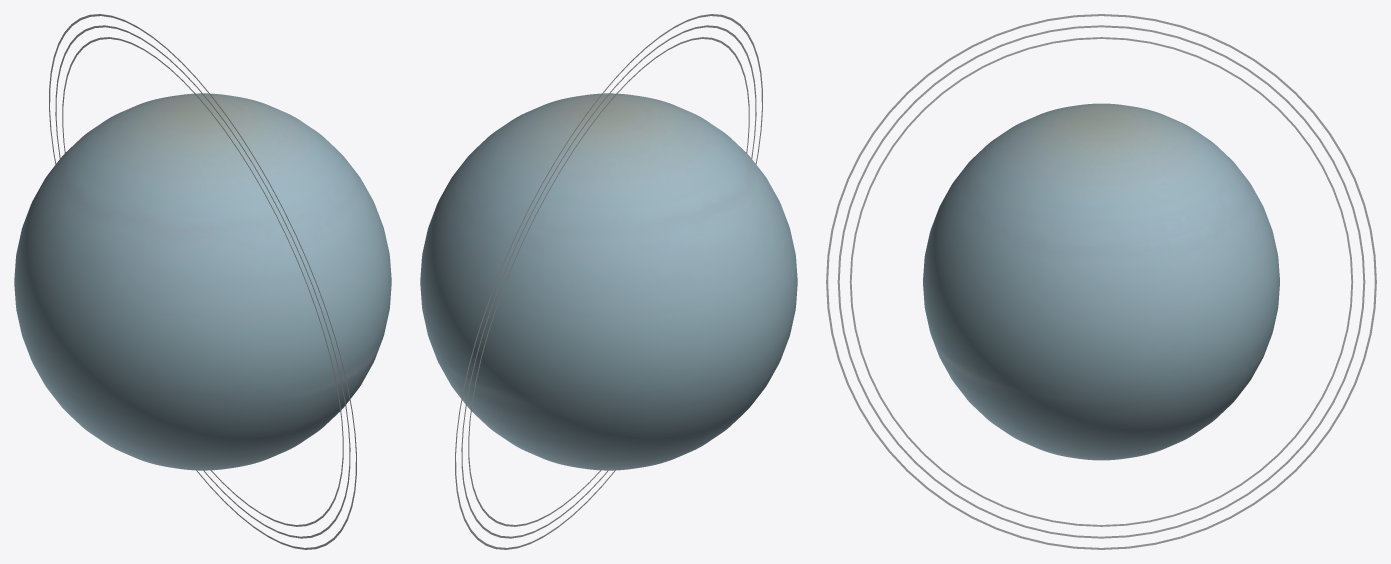
Rendered from uranus.glb.
3 renders of one model, left to right at view 1: azimuth 30°, elevation 25°; view 2: azimuth 150°, elevation 25°; view 3: azimuth 270°, elevation 25°, orthographic. The views are drawn at different scales.
Visible parts, largest first — view 1: Sphere, Circle, Circle.001, Circle.002; view 2: Sphere, Circle, Circle.001, Circle.002; view 3: Sphere, Circle, Circle.001, Circle.002.
Boxes of the visible parts, <box> form: Sphere: <box>14,93,391,470</box>; Circle: <box>49,14,356,549</box>; Circle.001: <box>55,25,350,538</box>; Circle.002: <box>62,37,343,526</box>; Sphere: <box>420,93,797,470</box>; Circle: <box>455,14,762,549</box>; Circle.001: <box>461,25,756,538</box>; Circle.002: <box>468,37,749,526</box>; Sphere: <box>923,103,1279,460</box>; Circle: <box>826,14,1376,549</box>; Circle.001: <box>837,25,1365,538</box>; Circle.002: <box>849,37,1353,526</box>.
Bounding box in the file's own units: 200 × 302 × 308.
2 materials, 1 textured.
